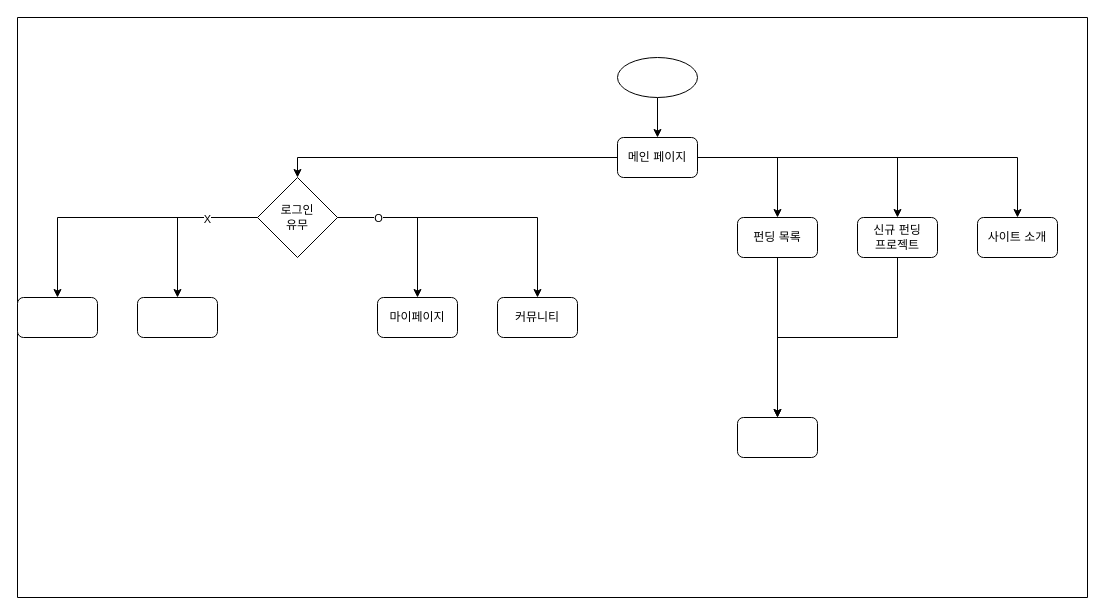
Image size: 1105x615. Some labels were removed from this diagram. Here are the shapes that lost their labels. From the top down, the centre of each, then its label:
the point at 657,77: 사이트 접속
the point at 57,317: 회원가입
the point at 177,317: 로그인 페이지
the point at 777,437: 프로젝트 페이지
